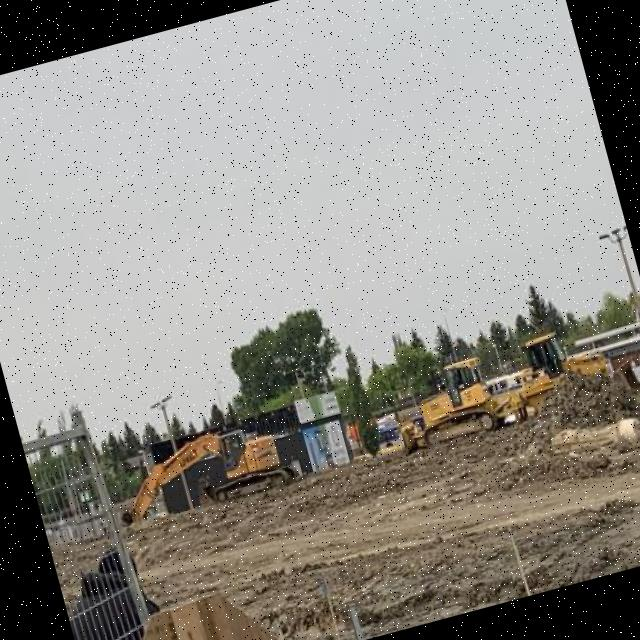Bulldozer: (382, 342, 532, 462)
Excavator: (109, 413, 304, 538)
